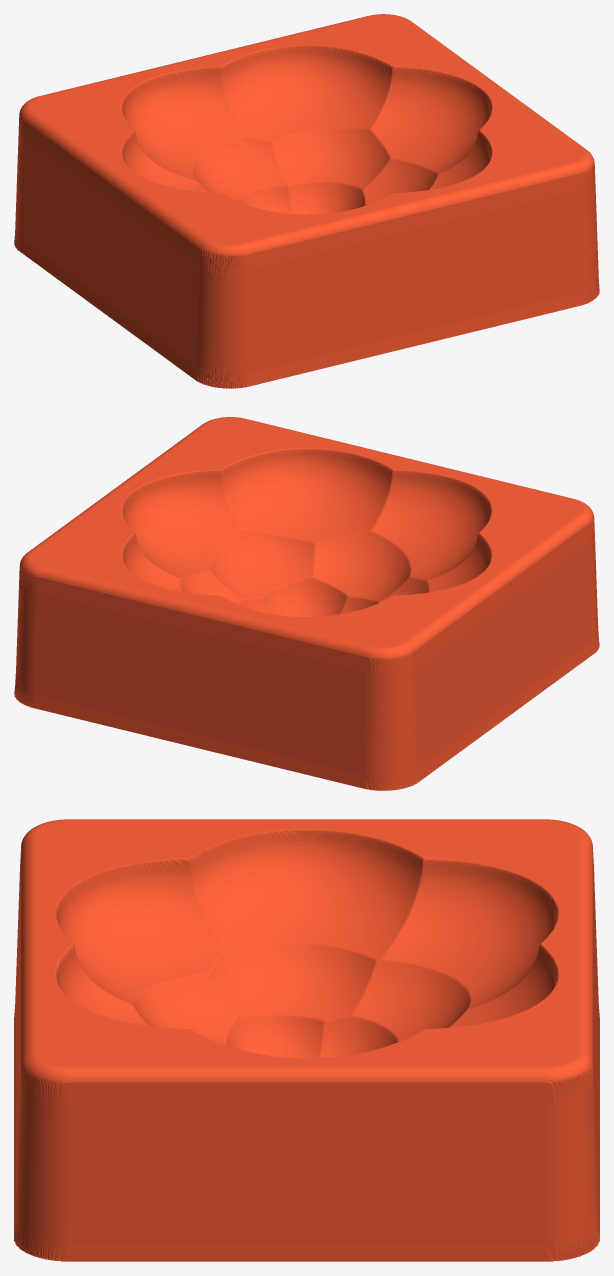
The model's file is mold.glb.
3 views of the same model, one above another, from view 1: azimuth 30°, elevation 25°; view 2: azimuth 150°, elevation 25°; view 3: azimuth 270°, elevation 25° (orthographic). The views are drawn at different scales.
Visible parts, largest first — view 1: geometry_0; view 2: geometry_0; view 3: geometry_0.
Boxes of the visible parts, x1,y1,x2,y2 form: geometry_0: (14, 14, 599, 388); geometry_0: (14, 417, 599, 790); geometry_0: (14, 819, 599, 1261).
Size of the model in its own units: 0.103 by 0.0338 by 0.0966.
